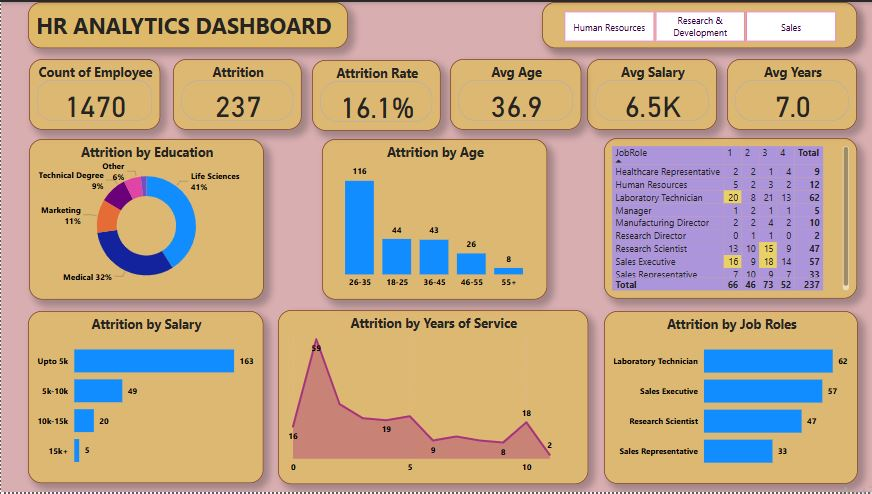

Layout of this report page (visuals, bound fields, positions):
{"tool":"powerbi","page":{"name":"Page 1","canvas":[1280,720],"ordinal":0},"visuals":[{"type":"cardVisual","title":"Count of Employee","fields":{"Data":["Measures_Table.Count of Emp"]},"box":[41.1,84,193.1,103.7],"z":0},{"type":"cardVisual","title":"Attrition","fields":{"Data":["Measures_Table.Sum of Attrition"]},"box":[252.1,84,189.5,103.7],"z":1000},{"type":"cardVisual","title":"Attrition Rate","fields":{"Data":["Measures_Table.Attrition Rate"]},"box":[457.7,85.8,189.5,103.7],"z":2000},{"type":"cardVisual","title":"Avg Age","fields":{"Data":["Avg(HR_Analytics.Age)"]},"box":[659.7,84,193.1,103.7],"z":3000},{"type":"cardVisual","title":"Avg Salary","fields":{"Data":["Avg(HR_Analytics.MonthlyIncome)"]},"box":[861.7,84,191.3,103.7],"z":4000},{"type":"cardVisual","title":"Avg Years","fields":{"Data":["Avg(HR_Analytics.YearsAtCompany)"]},"box":[1067.3,84,191.3,103.7],"z":5000},{"type":"donutChart","title":"Attrition by Education","fields":{"Category":["HR_Analytics.EducationField"],"Y":["CountNonNull(HR_Analytics.Attrition)"]},"box":[41.1,202,345,236],"z":6000},{"type":"columnChart","title":"Attrition by Age","fields":{"Category":["HR_Analytics.AgeGroup"],"Y":["Sum(HR_Analytics.AttritionBool)"]},"box":[472,202,330.7,236],"z":7000},{"type":"pivotTable","fields":{"Rows":["HR_Analytics.JobRole"],"Columns":["HR_Analytics.JobSatisfaction"],"Values":["Sum(HR_Analytics.AttritionBool)"]},"box":[886.7,200.2,371.8,236],"z":8000},{"type":"clusteredBarChart","title":"Attrition by Salary","fields":{"Category":["HR_Analytics.SalarySlab"],"Y":["Sum(HR_Analytics.AttritionBool)"]},"box":[40.4,454.8,345.9,252.8],"z":9000},{"type":"clusteredBarChart","title":"Attrition by Job Roles","fields":{"Y":["Sum(HR_Analytics.AttritionBool)"],"Category":["HR_Analytics.JobRole"]},"box":[886,454,373.2,254.2],"z":10000},{"type":"areaChart","title":"Attrition by Years of Service","fields":{"Y":["Sum(HR_Analytics.AttritionBool)"],"Category":["HR_Analytics.YearsAtCompany"]},"box":[407,452.6,455.5,255.7],"z":11000},{"type":"slicer","fields":{"Values":["HR_Analytics.Department"]},"box":[794.9,0,462.9,67.6],"z":12000},{"type":"textbox","box":[39.7,0,470.2,67.6],"z":13000}]}

Visuals, with their boxes in screenshot pixels (x1, y1, x2, y2), scaled from the page's 1280x720 canvas onto the 872x494 screenshot:
"Count of Employee" cardVisual: left=28, top=58, right=160, bottom=129
"Attrition" cardVisual: left=172, top=58, right=301, bottom=129
"Attrition Rate" cardVisual: left=312, top=59, right=441, bottom=130
"Avg Age" cardVisual: left=449, top=58, right=581, bottom=129
"Avg Salary" cardVisual: left=587, top=58, right=717, bottom=129
"Avg Years" cardVisual: left=727, top=58, right=857, bottom=129
"Attrition by Education" donutChart: left=28, top=139, right=263, bottom=301
"Attrition by Age" columnChart: left=322, top=139, right=547, bottom=301
pivotTable - HR_Analytics.JobRole x HR_Analytics.JobSatisfaction: left=604, top=137, right=857, bottom=299
"Attrition by Salary" clusteredBarChart: left=28, top=312, right=263, bottom=485
"Attrition by Job Roles" clusteredBarChart: left=604, top=311, right=858, bottom=486
"Attrition by Years of Service" areaChart: left=277, top=311, right=588, bottom=486
slicer - HR_Analytics.Department: left=542, top=0, right=857, bottom=46
textbox: left=27, top=0, right=347, bottom=46
